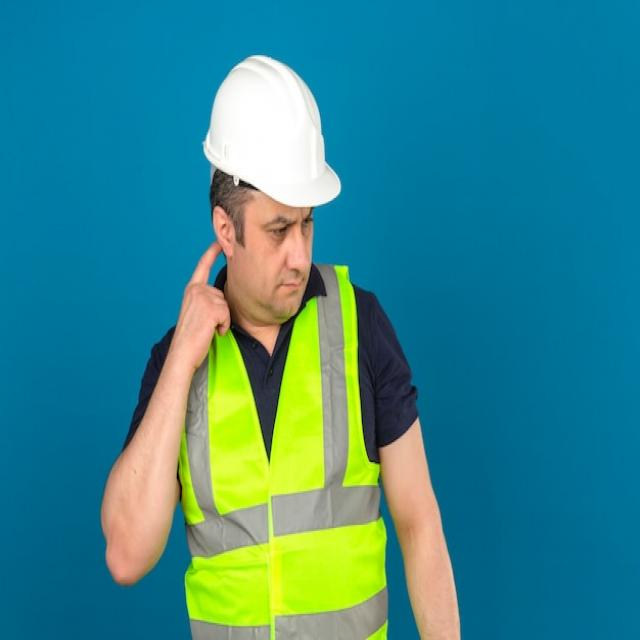Reflective-Jacket: (176, 267, 389, 637)
Safety-Helmet: (200, 51, 340, 215)
